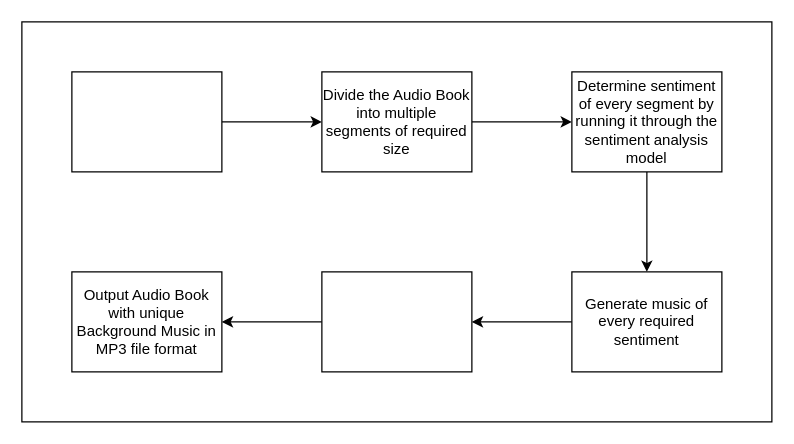
Image size: 794x444. Some labels were removed from this diagram. The centre of each missing label's shape, as x and y in pixels:
"Input a Audio Book MP3 File" belongs at (146,121).
"Overlay the Audio Book with the respective music generated" belongs at (396,321).
